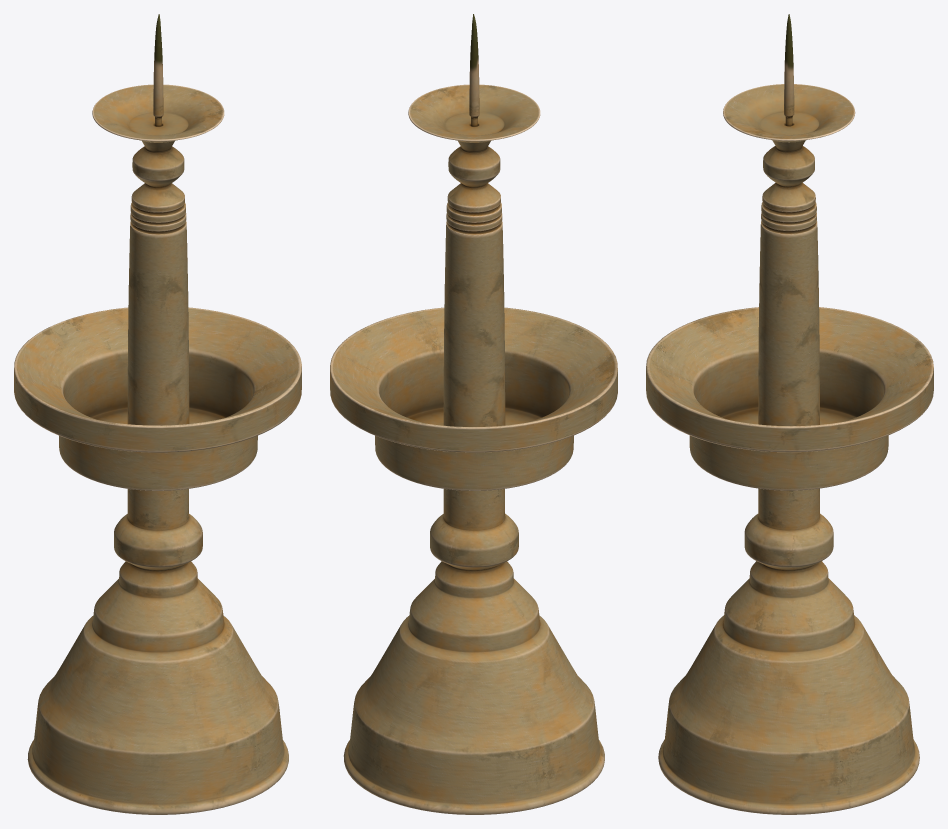
File: SM_Candlestick122.fbx
3 renders of one model, left to right at view 1: azimuth 30°, elevation 25°; view 2: azimuth 150°, elevation 25°; view 3: azimuth 270°, elevation 25°, orthographic.
Parts seen in each view (by area): view 1: SM_Candlestick122; view 2: SM_Candlestick122; view 3: SM_Candlestick122.
Part boxes in pixels (<box>): SM_Candlestick122: <box>14,14,301,814</box>; SM_Candlestick122: <box>330,14,617,814</box>; SM_Candlestick122: <box>646,14,933,814</box>.
Bounding box in the file's own units: 14.92 × 42.66 × 14.9.
